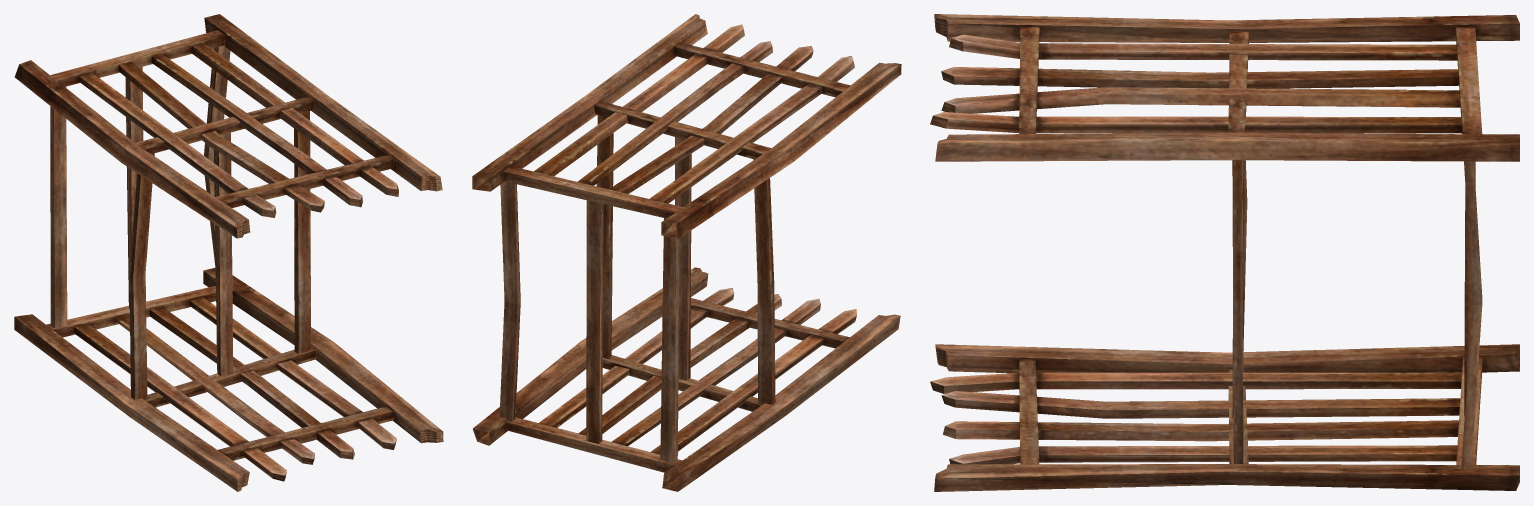
Rendered from world_mujiazi.obj.
3 views of the same model, side by side, from view 1: azimuth 30°, elevation 25°; view 2: azimuth 150°, elevation 25°; view 3: azimuth 270°, elevation 25° (orthographic). The views are drawn at different scales.
Parts seen in each view (by area): view 1: World_mujiazi; view 2: World_mujiazi; view 3: World_mujiazi.
Boxes of the visible parts, left/top/right/bottom form: World_mujiazi: left=14, top=14, right=443, bottom=491; World_mujiazi: left=472, top=14, right=901, bottom=491; World_mujiazi: left=930, top=14, right=1519, bottom=491.
Size of the model in its own units: 45.05 by 55.24 by 82.28.
Materials: 1 (1 with a texture image).
